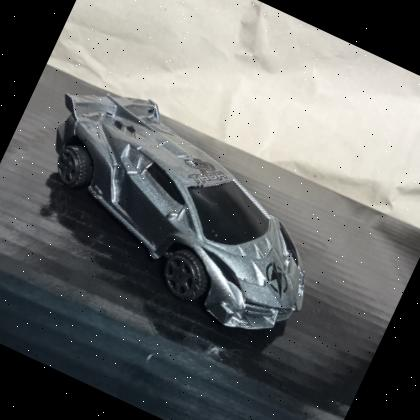Car: (54, 94, 305, 333)
